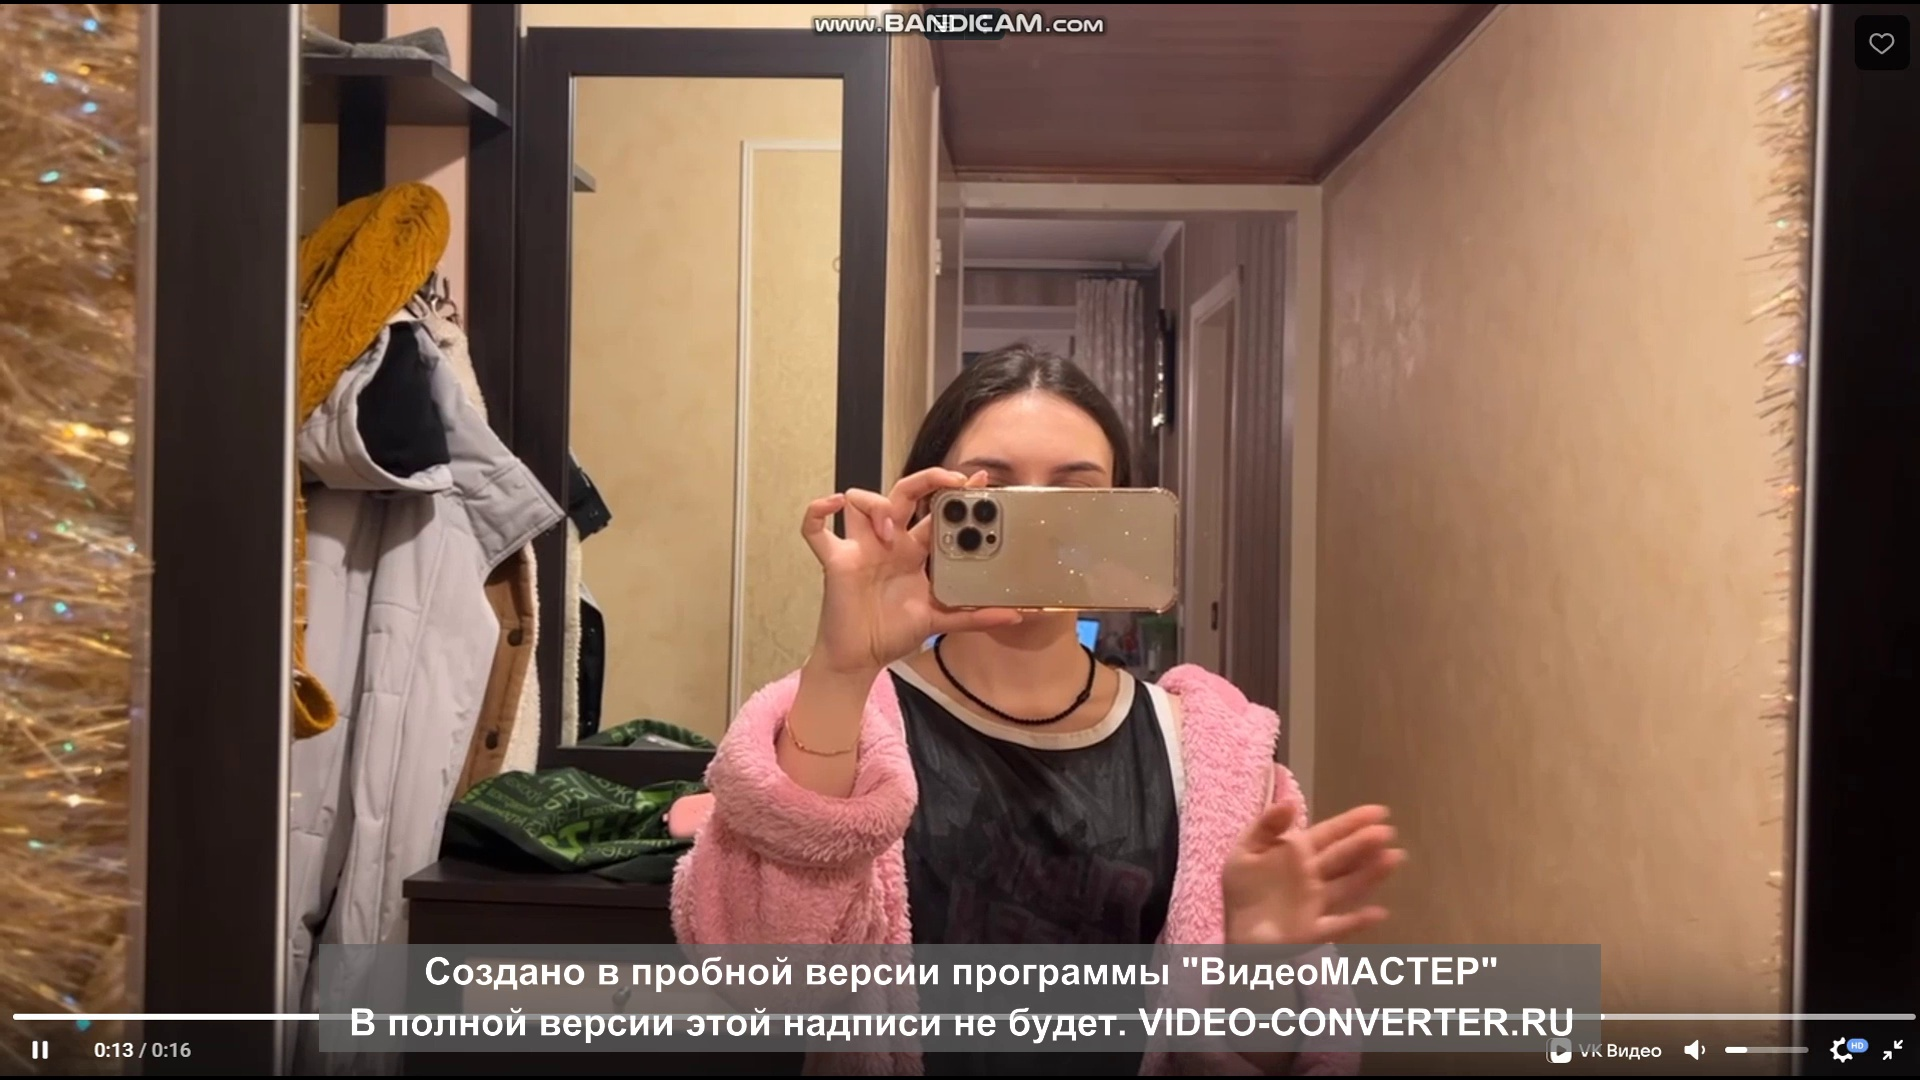Ладонь: (1218, 790, 1404, 942)
